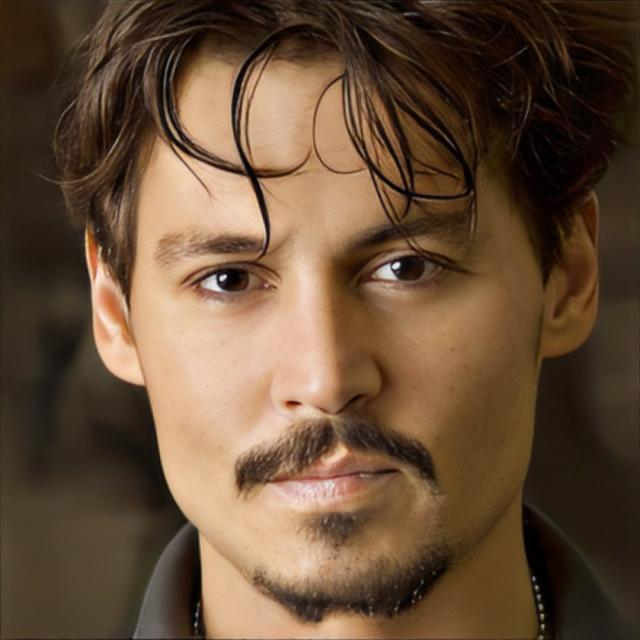neutral: (126, 38, 538, 617)
